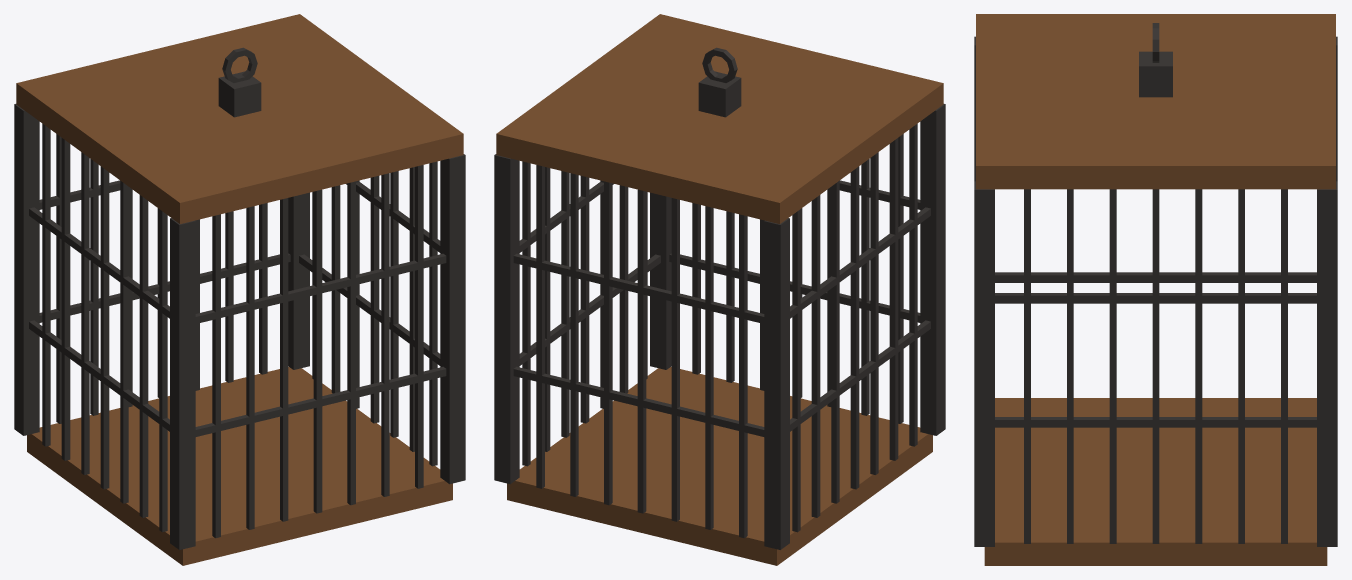
Rendered from im_lift_cage.glb.
3 renders of one model, left to right at view 1: azimuth 30°, elevation 25°; view 2: azimuth 150°, elevation 25°; view 3: azimuth 270°, elevation 25°, orthographic. The views are drawn at different scales.
Parts seen in each view (by area): view 1: im_lift_cage; view 2: im_lift_cage; view 3: im_lift_cage.
Boxes of the visible parts, left/top/right/bottom form: im_lift_cage: left=14, top=14, right=465, bottom=565; im_lift_cage: left=494, top=14, right=945, bottom=565; im_lift_cage: left=974, top=14, right=1337, bottom=565.
Size of the model in its own units: 2.12 by 3.01 by 2.12.
